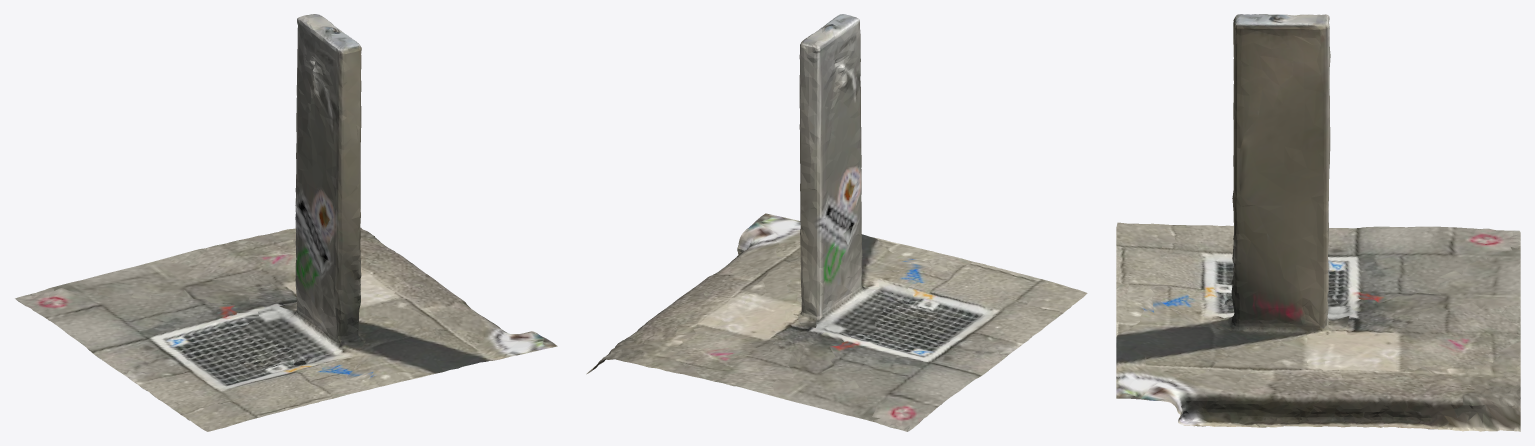
Rendered from S009_WaterFountain.glb.
The picture shows the model from 3 angles, left to right: view 1: azimuth 30°, elevation 25°; view 2: azimuth 150°, elevation 25°; view 3: azimuth 270°, elevation 25°; orthographic projection. The views are drawn at different scales.
Parts seen in each view (by area): view 1: Object_4; view 2: Object_4; view 3: Object_4.
Boxes of the visible parts, left/top/right/bottom form: Object_4: left=15, top=14, right=557, bottom=431; Object_4: left=586, top=14, right=1087, bottom=431; Object_4: left=1116, top=14, right=1520, bottom=431.
Size of the model in its own units: 7.58 by 6.81 by 7.31.
1 material, 1 textured.
